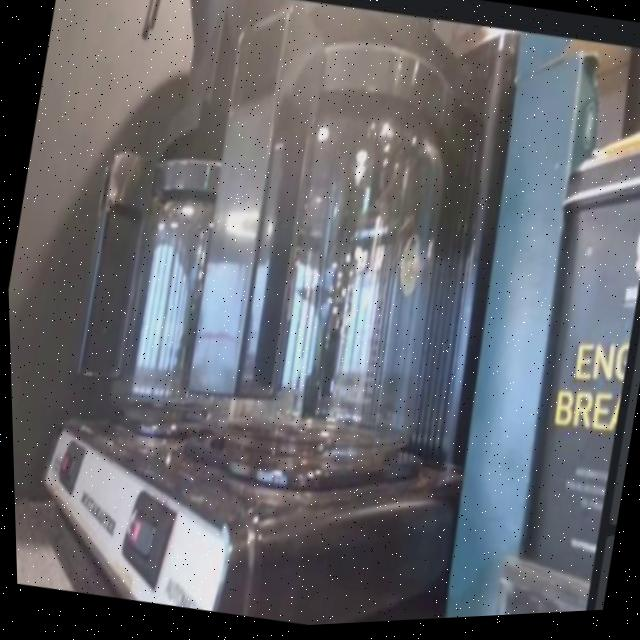nocoffee: (160, 11, 507, 512), (63, 113, 312, 474)
